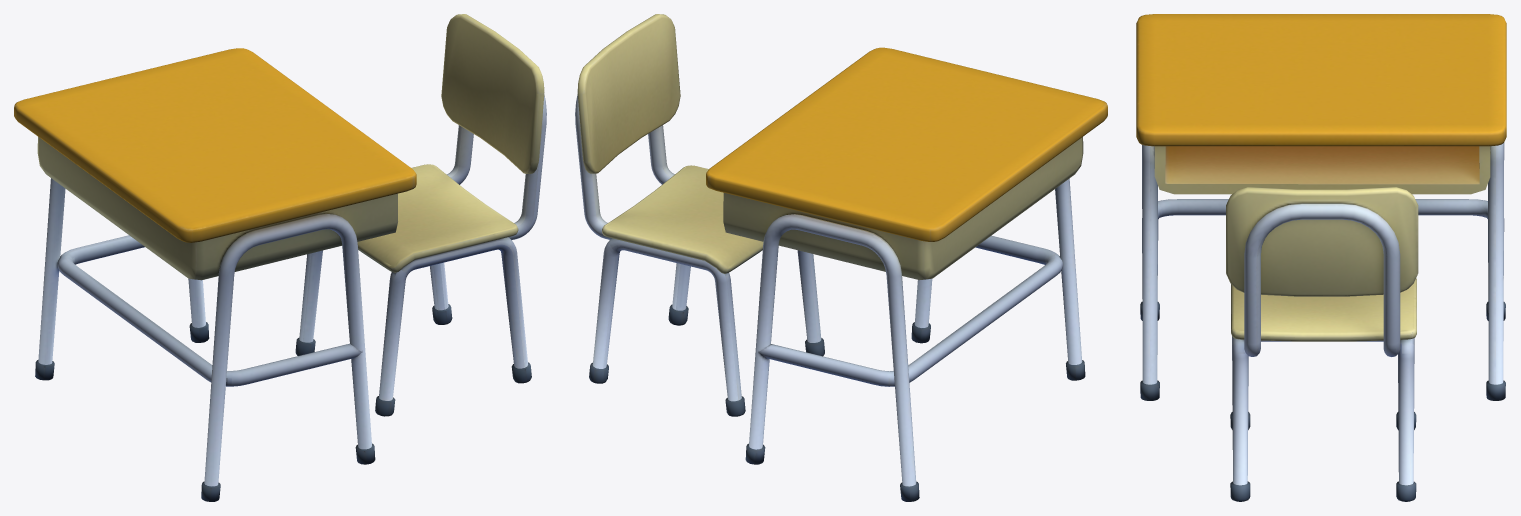
Rendered from school_desk.gltf.
The picture shows the model from 3 angles, left to right: view 1: azimuth 30°, elevation 25°; view 2: azimuth 150°, elevation 25°; view 3: azimuth 270°, elevation 25°; orthographic projection. The views are drawn at different scales.
Visible parts, largest first — view 1: desk, chair; view 2: desk, chair; view 3: desk, chair.
Part boxes in pixels (x1,y1,x2,y2): desk: (14, 48, 416, 501); chair: (295, 14, 546, 416); desk: (706, 47, 1107, 501); chair: (575, 14, 824, 416); desk: (1136, 14, 1506, 400); chair: (1226, 187, 1418, 501).
Bounding box in the file's own units: 0.3486 × 0.2447 × 0.256.
1 material, 1 textured.
